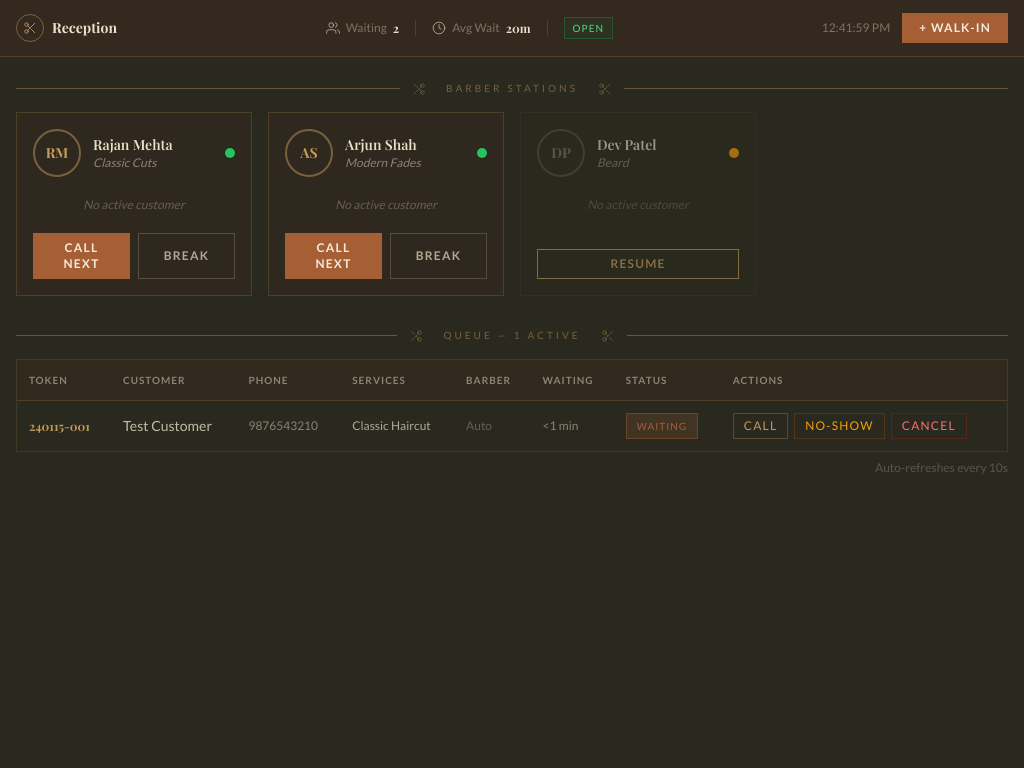
ReceptionPage — status transitions › cancels the modal without calling updateStatus
What coordinates should you click on to do the following:
click the button with aria-label "Call 240115-001"
I would click on:
 (761, 426)
Its box is [733, 413, 788, 439].
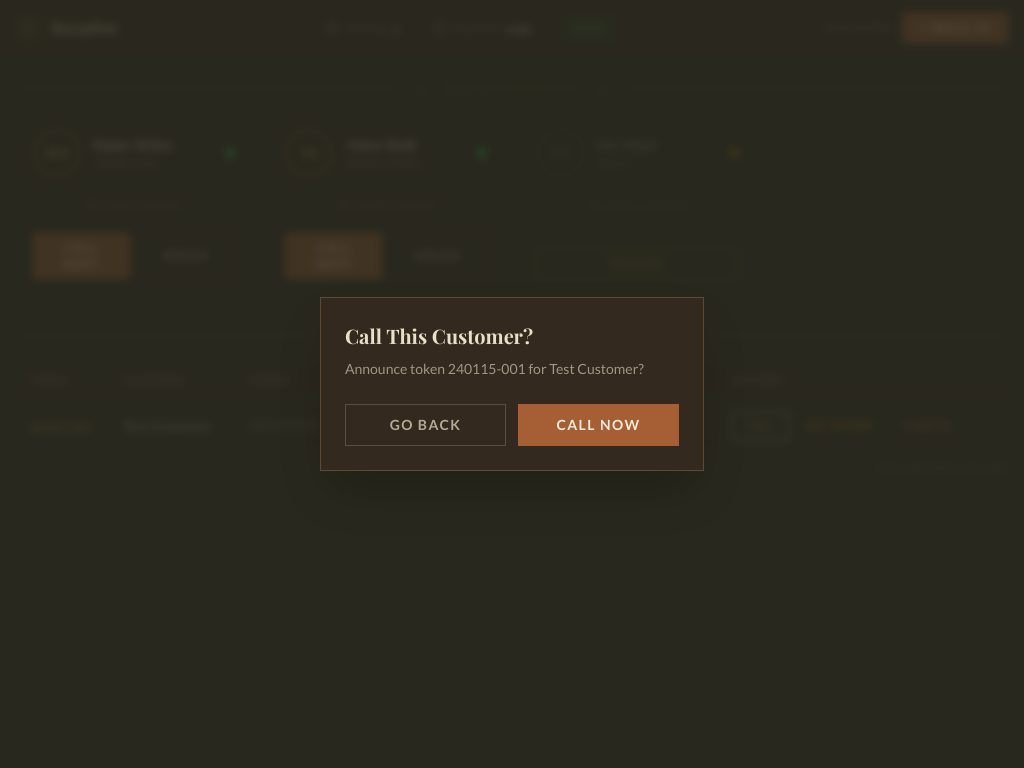
Check: the dialog is shown
What coordinates should you click on to do the following:
click the button "Go Back"
I would click on:
 (426, 425)
Its box is [345, 404, 506, 446].
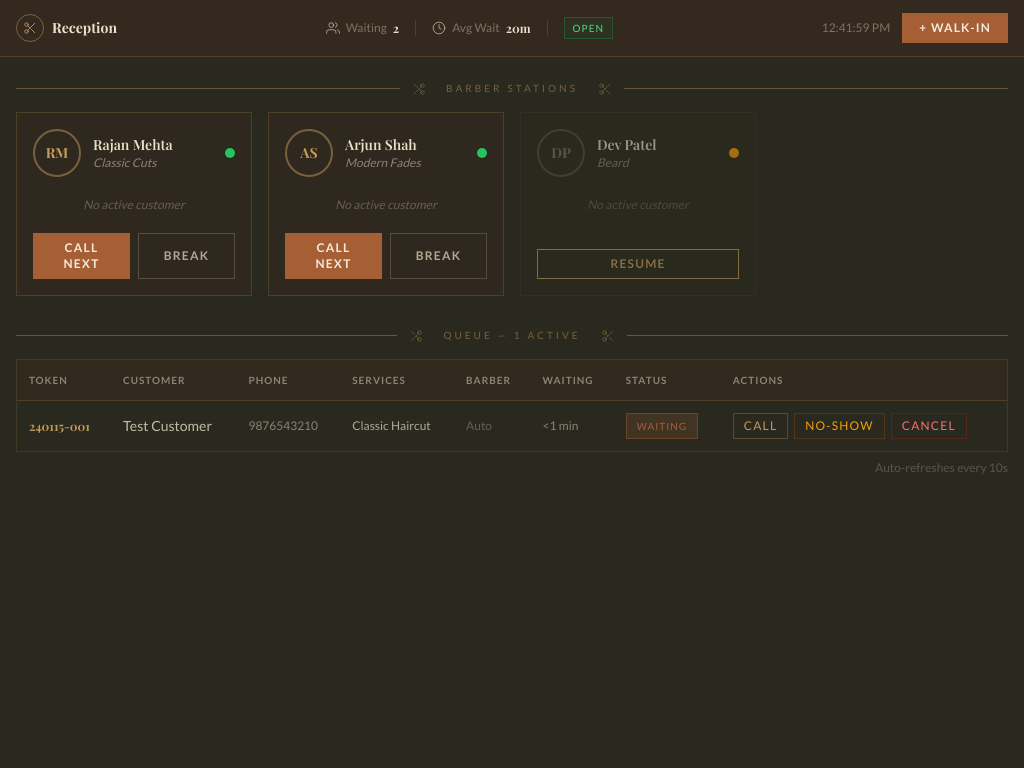
Check: the dialog is gone
